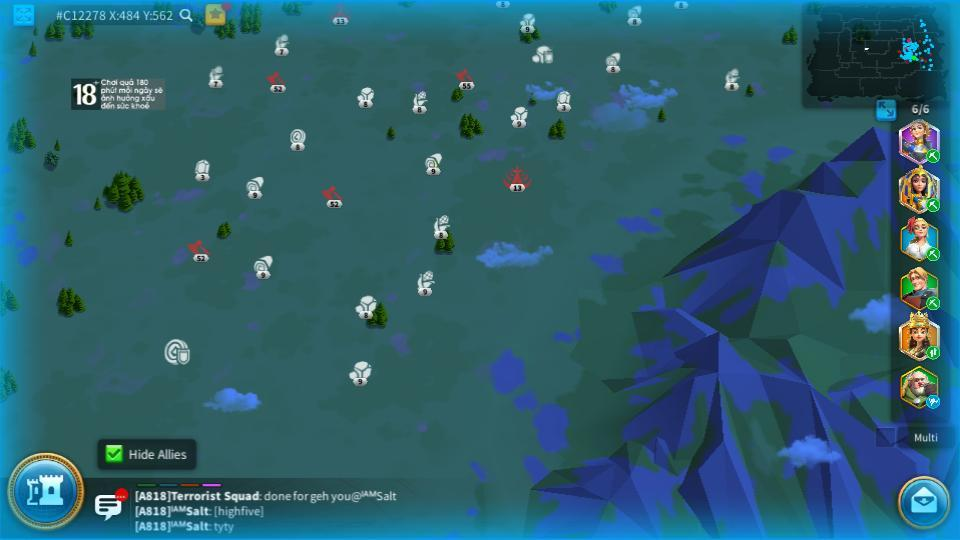gem-z-out: (192, 158, 212, 178)
march_marching: (924, 197, 939, 212), (924, 345, 939, 359), (925, 149, 941, 162), (926, 395, 942, 407), (925, 298, 941, 309)
